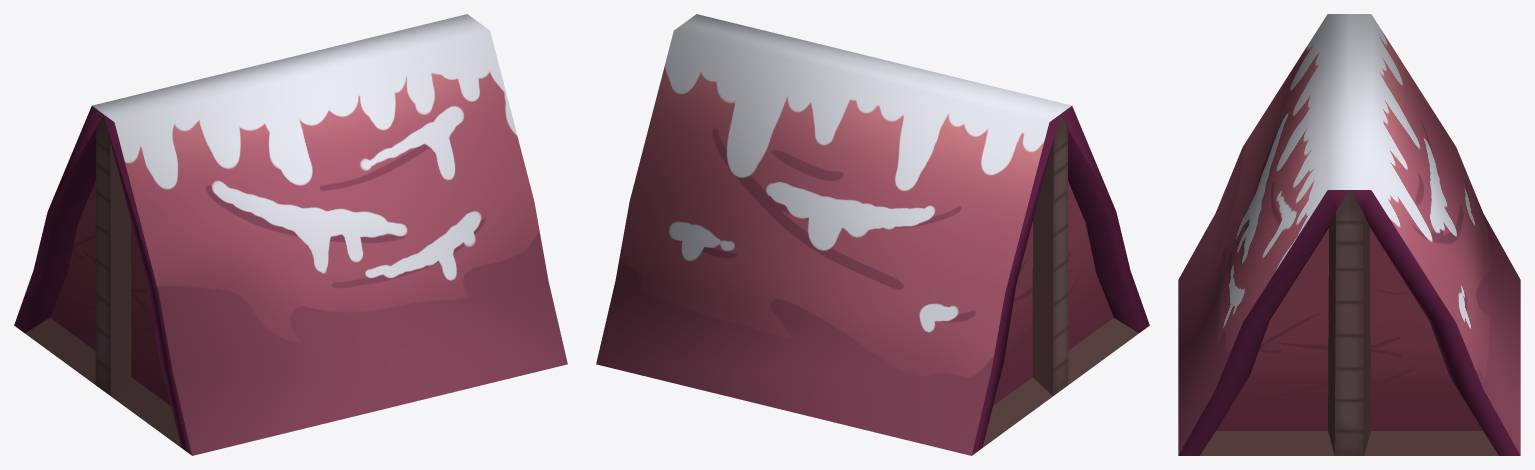
Rendered from tent.fbx.
3 renders of one model, left to right at view 1: azimuth 30°, elevation 25°; view 2: azimuth 150°, elevation 25°; view 3: azimuth 270°, elevation 25°, orthographic. The views are drawn at different scales.
Visible parts, largest first — view 1: Cube.001; view 2: Cube.001; view 3: Cube.001.
Part boxes in pixels (x1,y1,x2,y2): Cube.001: (14, 14, 567, 455); Cube.001: (596, 14, 1149, 455); Cube.001: (1178, 14, 1520, 455).
Size of the model in its own units: 984 by 693 by 808.
